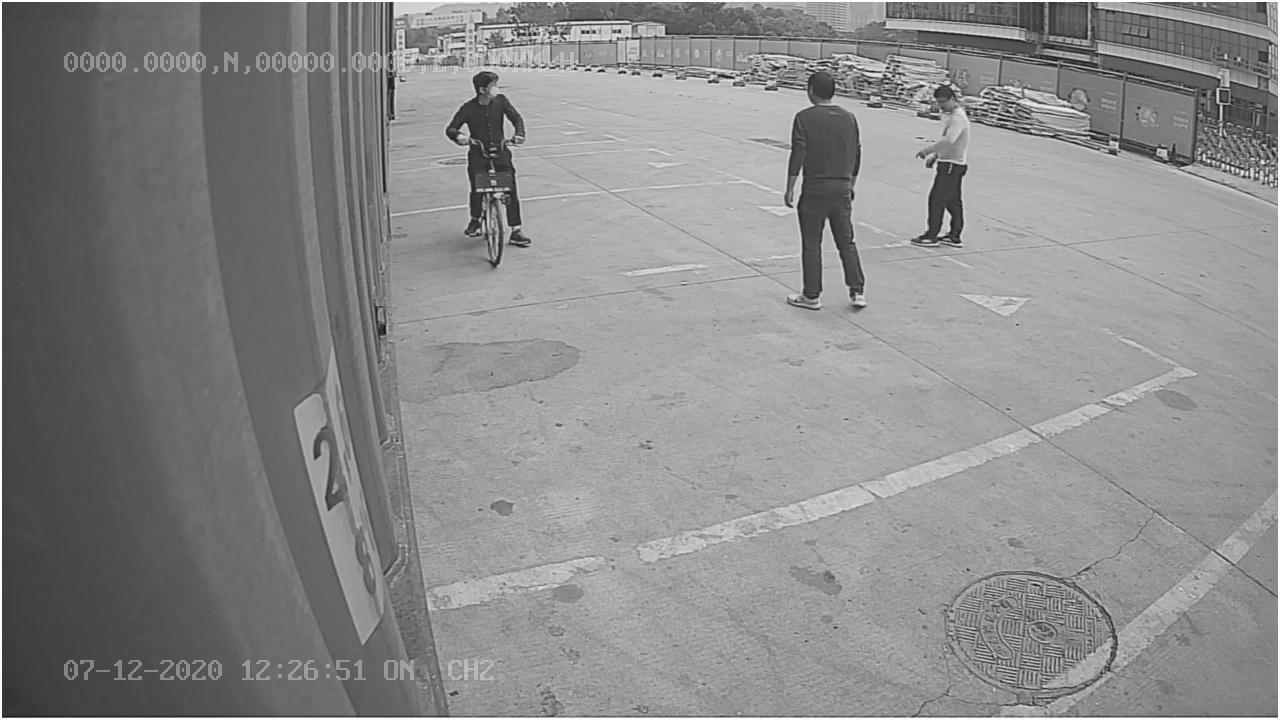person: (781, 67, 873, 315)
